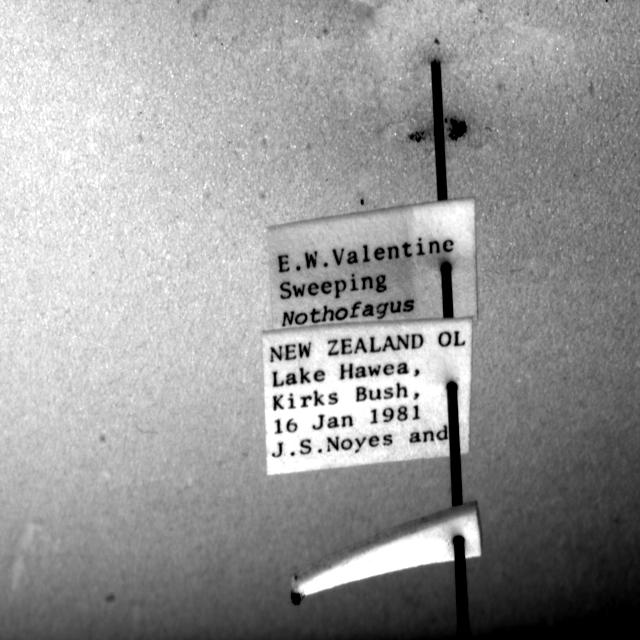typed_label: (262, 319, 472, 474), (269, 199, 478, 330)
